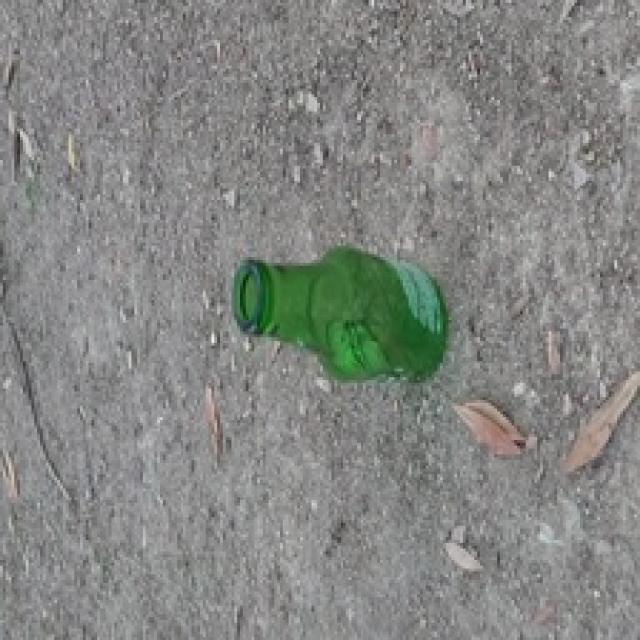garbage: (232, 246, 470, 392)
